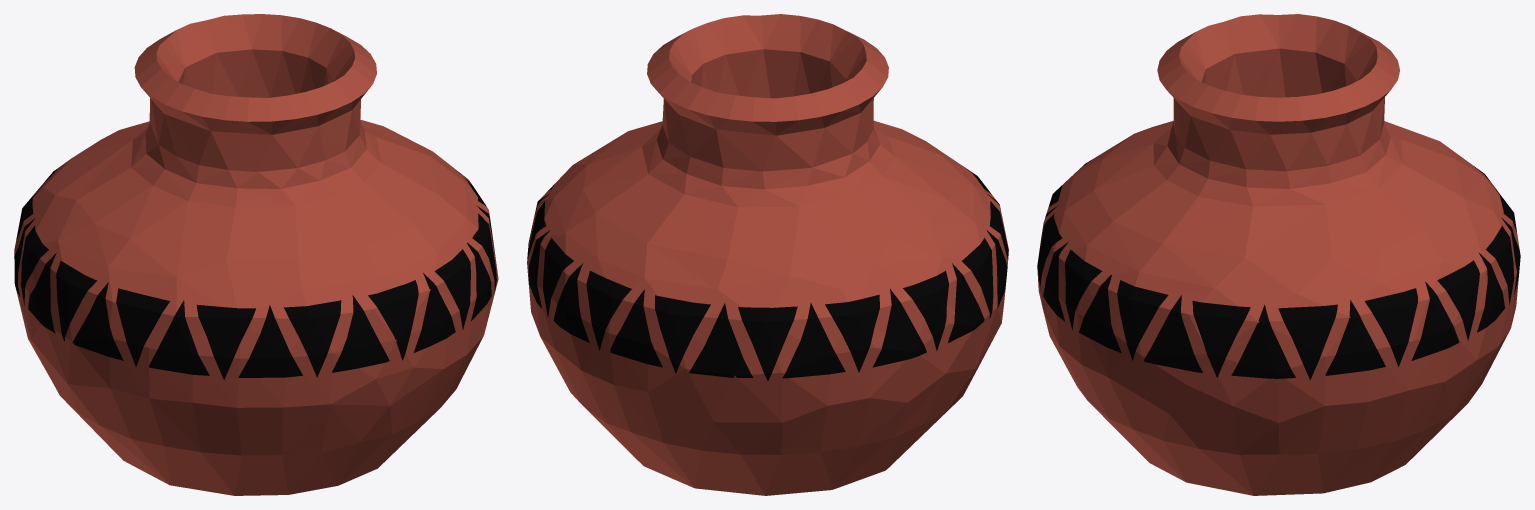
Rendered from Pottery 23_1.fbx.
3 views of the same model, side by side, from view 1: azimuth 30°, elevation 25°; view 2: azimuth 150°, elevation 25°; view 3: azimuth 270°, elevation 25° (orthographic).
Parts seen in each view (by area): view 1: Pottery 23_1; view 2: Pottery 23_1; view 3: Pottery 23_1.
Part boxes in pixels (x1,y1,x2,y2): Pottery 23_1: (14,14,498,495); Pottery 23_1: (527,14,1008,495); Pottery 23_1: (1037,14,1520,495).
Bounding box in the file's own units: 53.28 × 45.94 × 52.98.
